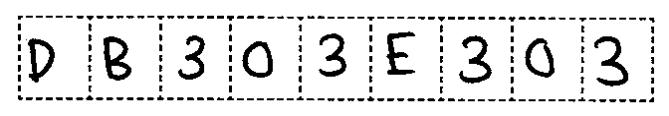0: (520, 34, 564, 83), (239, 34, 278, 82)
3: (586, 30, 638, 90), (455, 30, 496, 90), (310, 29, 352, 82), (174, 29, 212, 85)
B: (94, 32, 141, 88)
D: (22, 34, 60, 88)
E: (379, 27, 421, 80)
